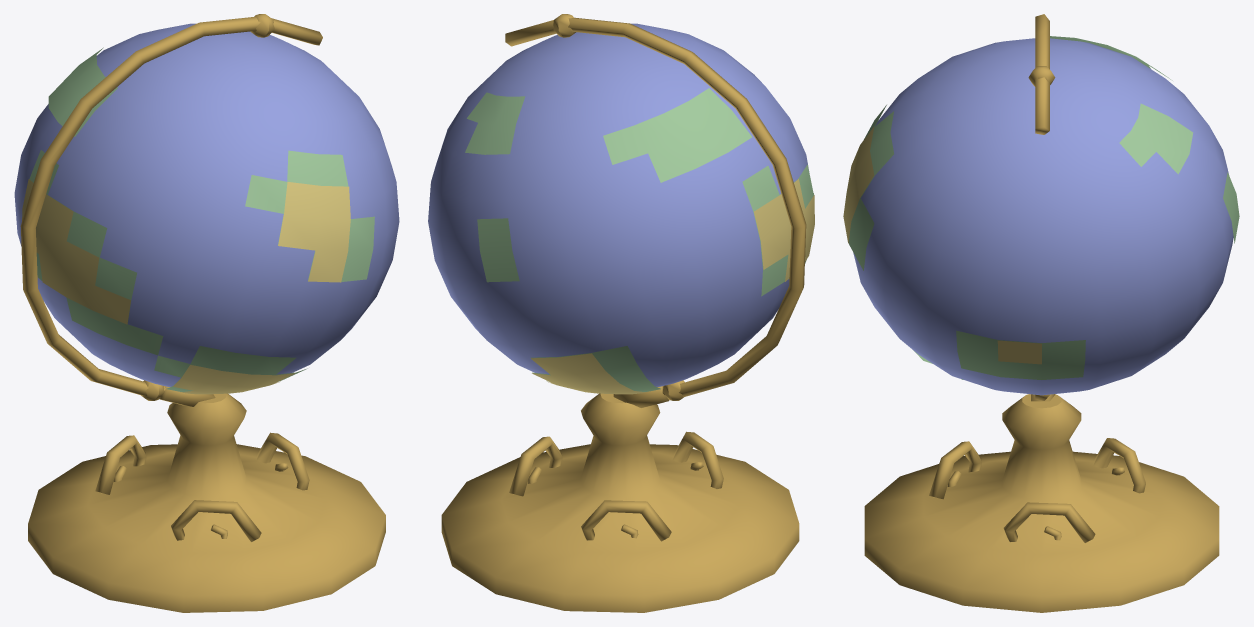
File: globe_table.glb
3 renders of one model, left to right at view 1: azimuth 30°, elevation 25°; view 2: azimuth 150°, elevation 25°; view 3: azimuth 270°, elevation 25°, orthographic.
Parts seen in each view (by area): view 1: globe_table; view 2: globe_table; view 3: globe_table.
Part boxes in pixels (x1=…): globe_table: x1=14, y1=14, x2=399, y2=612; globe_table: x1=428, y1=14, x2=814, y2=612; globe_table: x1=843, y1=14, x2=1239, y2=612.
Size of what is drawn, in the model's own units: 0.32 by 0.45 by 0.32.
